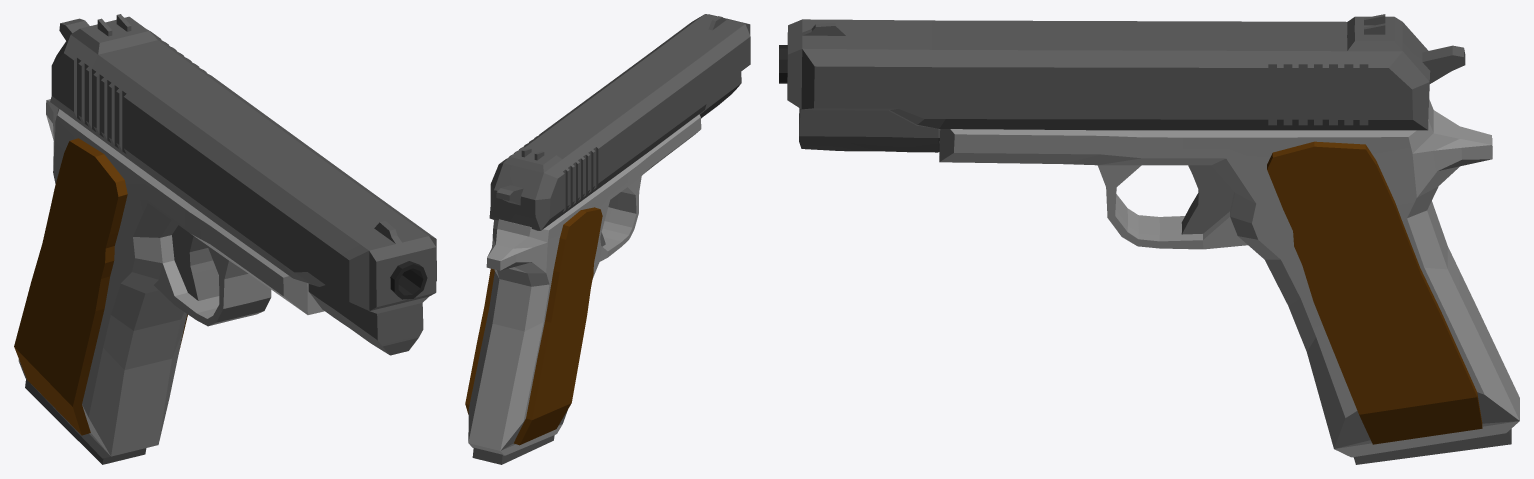
Rendered from Pistol.fbx.
3 views of the same model, side by side, from view 1: azimuth 30°, elevation 25°; view 2: azimuth 150°, elevation 25°; view 3: azimuth 270°, elevation 25° (orthographic). The views are drawn at different scales.
Parts seen in each view (by area): view 1: PistolMesh; view 2: PistolMesh; view 3: PistolMesh.
Part boxes in pixels (x1=…): PistolMesh: x1=14, y1=14, x2=436, y2=464; PistolMesh: x1=465, y1=14, x2=750, y2=464; PistolMesh: x1=779, y1=14, x2=1519, y2=464.
Size of the model in its own units: 4.16 by 17.34 by 26.77.
